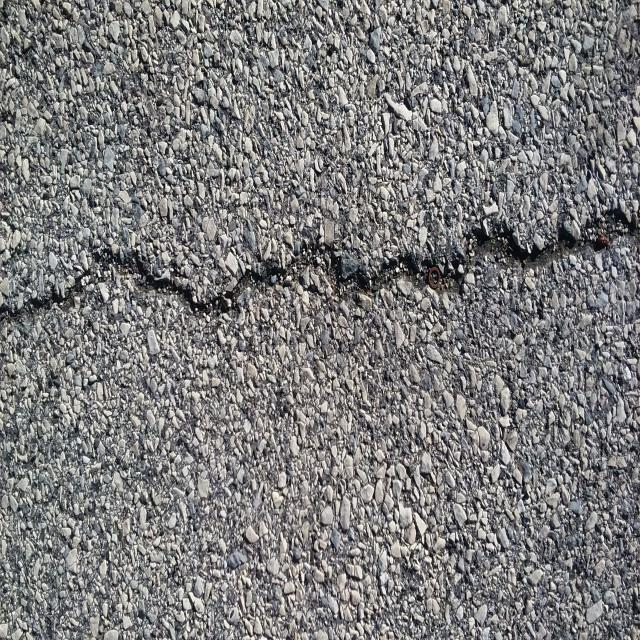transverse: (0, 202, 636, 358)
